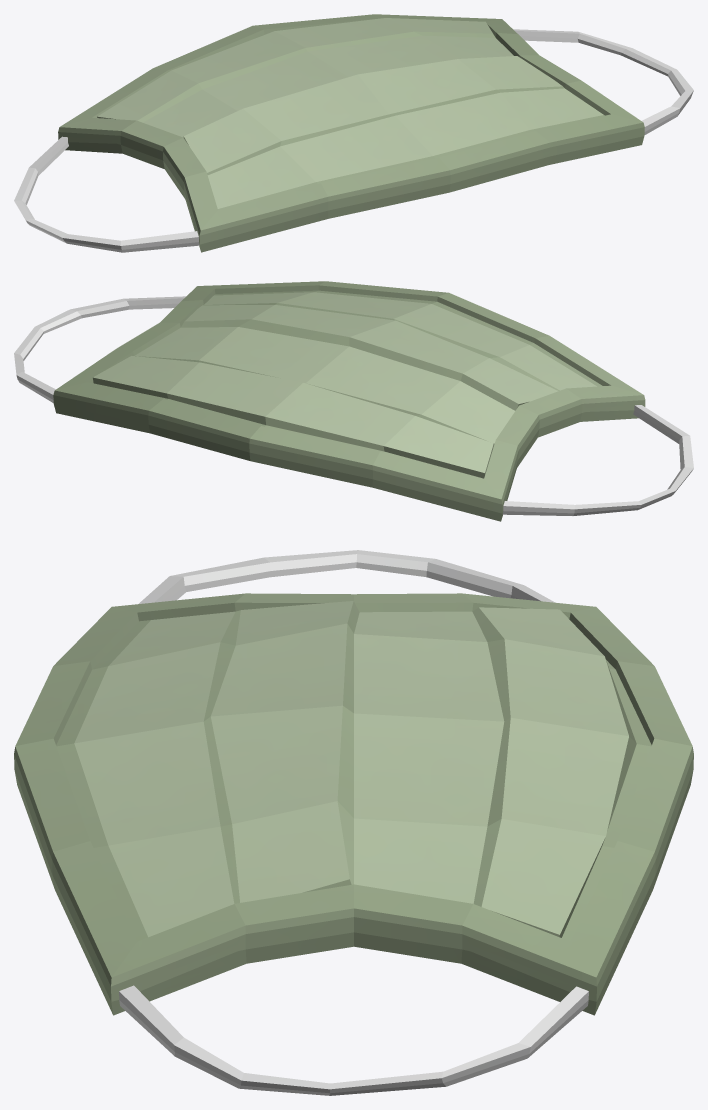
Rendered from face_mask_2.glb.
The picture shows the model from 3 angles, top to bottom: view 1: azimuth 30°, elevation 25°; view 2: azimuth 150°, elevation 25°; view 3: azimuth 270°, elevation 25°; orthographic projection. The views are drawn at different scales.
Visible parts, largest first — view 1: face_mask_2; view 2: face_mask_2; view 3: face_mask_2.
Boxes of the visible parts, <box> form: face_mask_2: <box>14,14,693,252</box>; face_mask_2: <box>14,281,693,521</box>; face_mask_2: <box>14,550,693,1095</box>.
Bounding box in the file's own units: 0.2196 × 0.0247 × 0.1172.
Materials: 1 (1 with a texture image).
